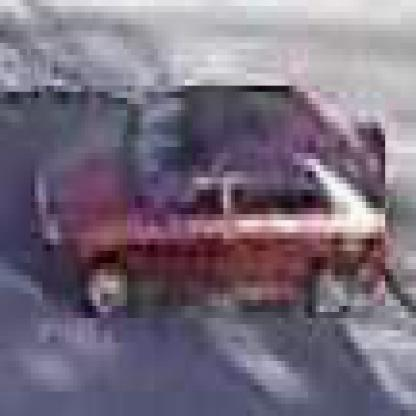car: (43, 87, 390, 325)
